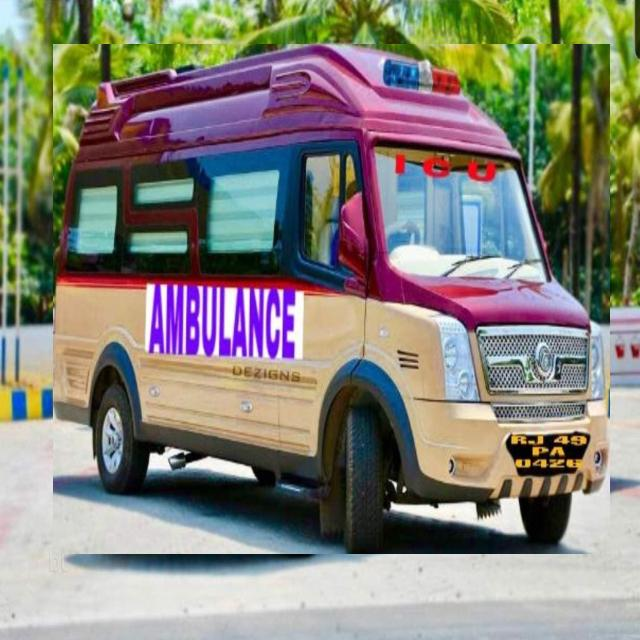emergency: (53, 44, 609, 554)
